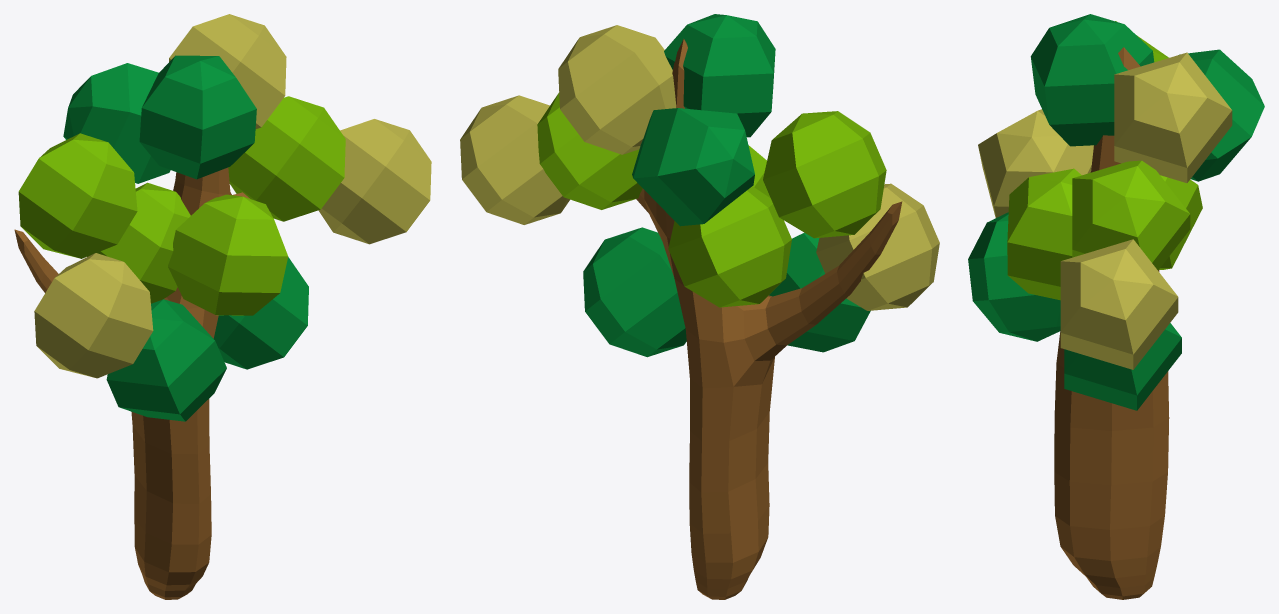
File: Arbol.004.glb
The picture shows the model from 3 angles, left to right: view 1: azimuth 30°, elevation 25°; view 2: azimuth 150°, elevation 25°; view 3: azimuth 270°, elevation 25°; orthographic projection. The views are drawn at different scales.
Visible parts, largest first — view 1: Sphere; view 2: Sphere; view 3: Sphere.
Boxes of the visible parts, x1,y1,x2,y2 form: Sphere: [14, 14, 431, 599]; Sphere: [460, 14, 939, 599]; Sphere: [968, 14, 1264, 599].
Bounding box in the file's own units: 23.02 × 28.44 × 13.13.
